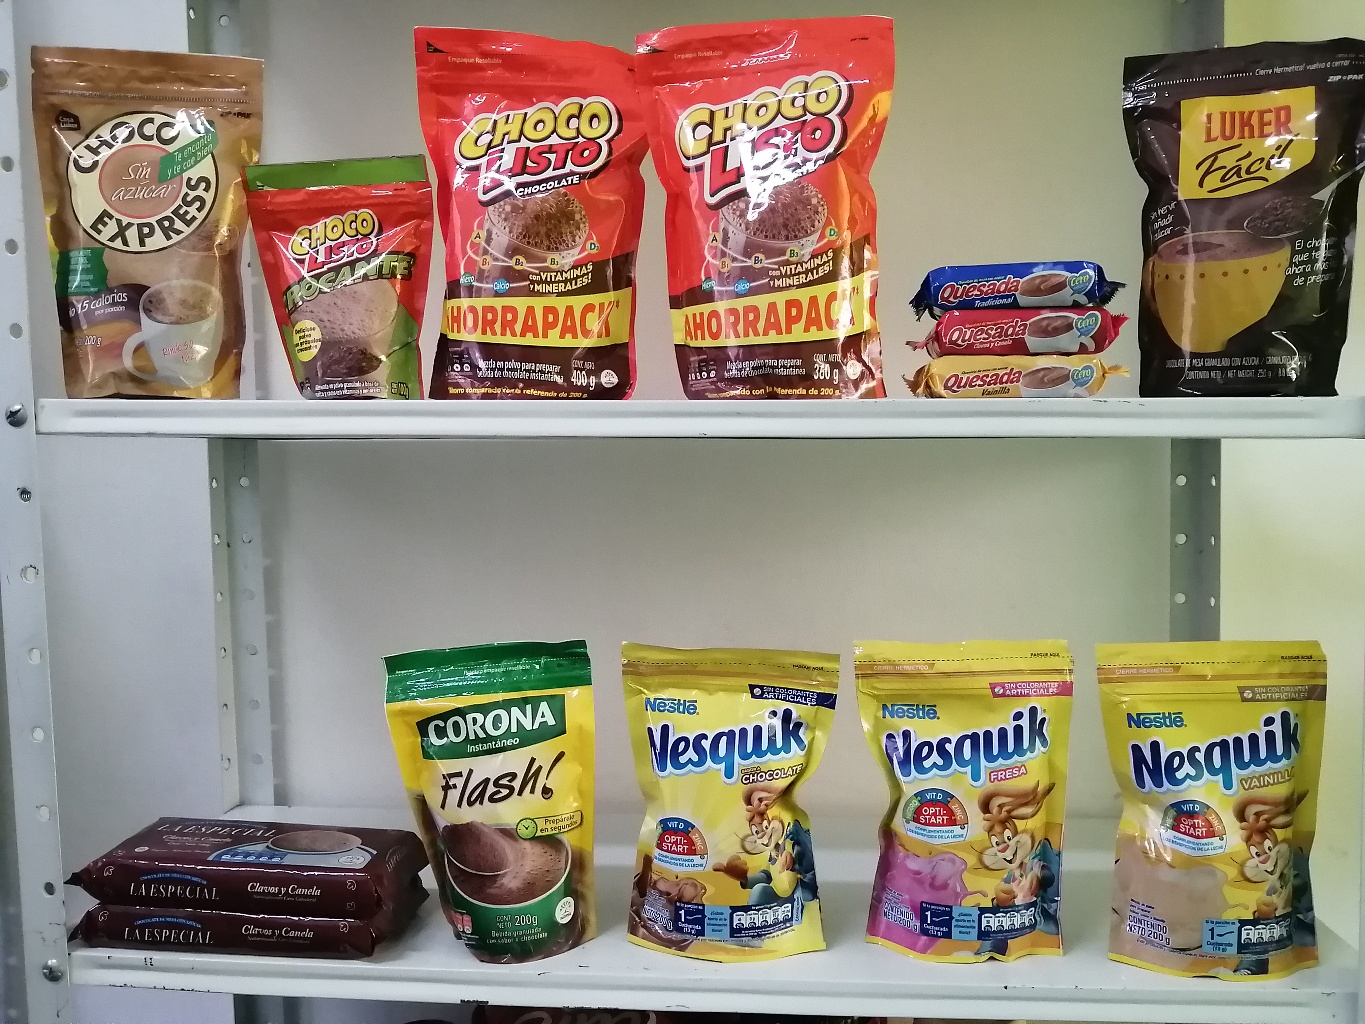COL0170102DYP10000: (245, 150, 449, 406)
COL0170103DYP36000: (658, 6, 925, 412)
COL0170103DYP40000: (380, 12, 654, 396)
COL0170303DYP20000: (628, 632, 852, 978)
COL0170305DYP20000: (850, 618, 1097, 982)
COL0170306DYP20000: (1087, 622, 1335, 984)
